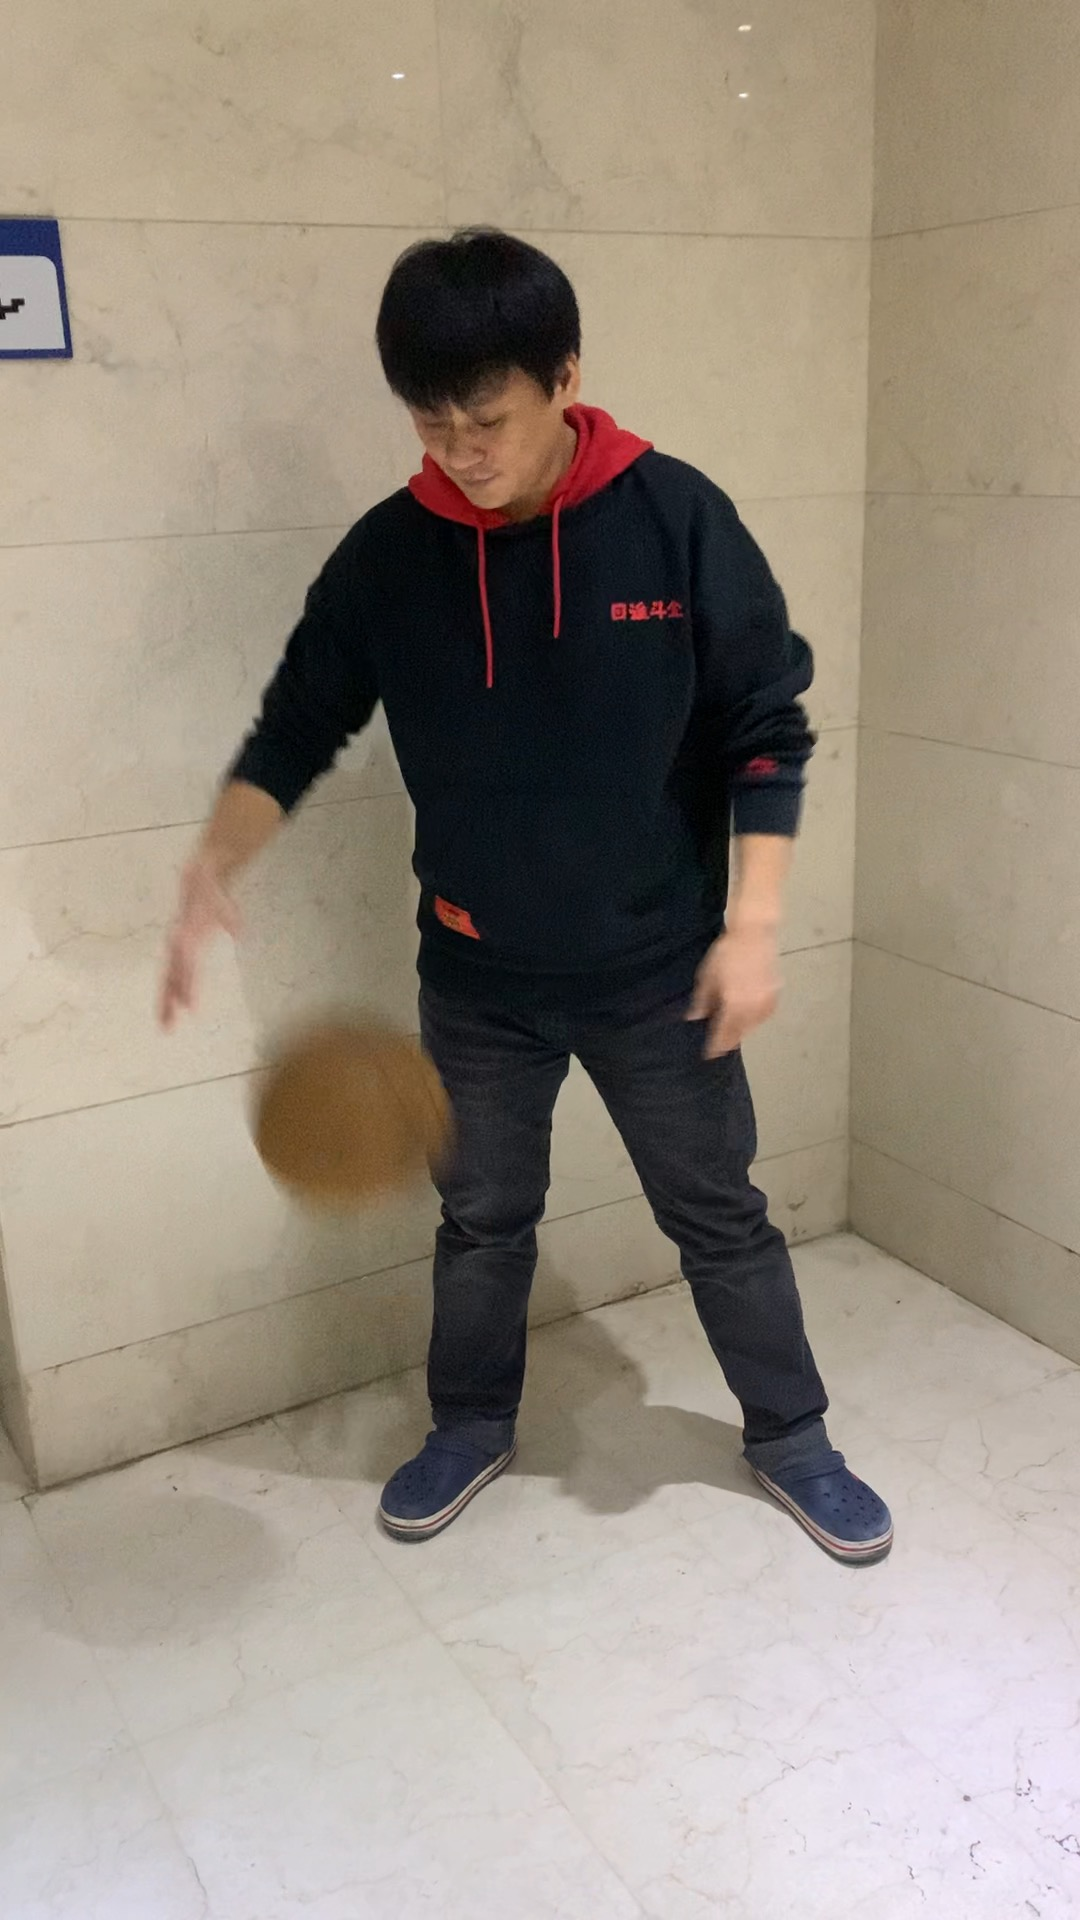ball: (235, 996, 464, 1230)
